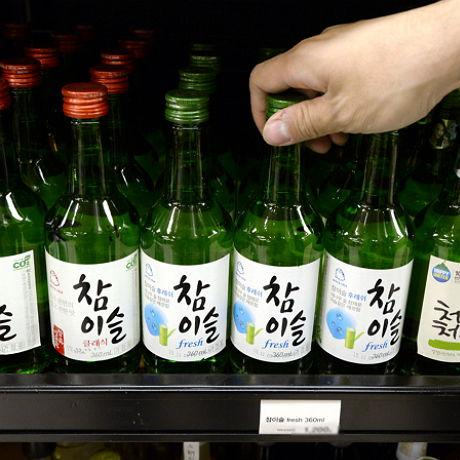soju: (3, 32, 460, 386)
